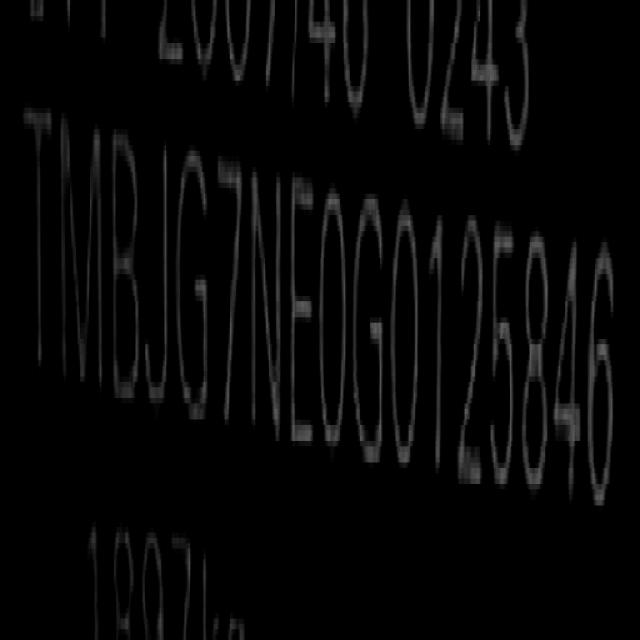0: (392, 203, 422, 476), (319, 180, 347, 460)
1: (430, 214, 448, 488)
2: (456, 216, 483, 500)
4: (553, 227, 581, 510)
5: (492, 223, 518, 500)
6: (589, 241, 620, 517)
7: (216, 148, 244, 444)
8: (523, 222, 550, 502)
B: (112, 124, 142, 410)
E: (289, 176, 317, 454)
G: (174, 138, 212, 432), (350, 187, 385, 466)
J: (145, 136, 171, 422)
M: (60, 108, 104, 406)
N: (252, 161, 285, 450)
T: (23, 96, 53, 393)
